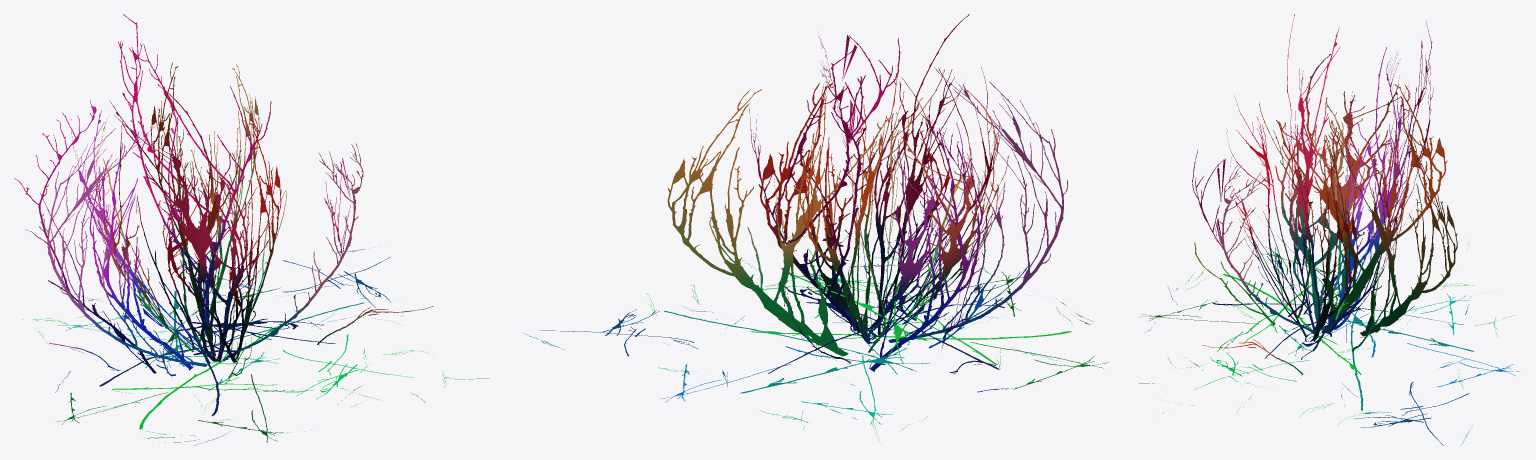
Rendered from Dead_Shrubs_vdknafgha_Raw_vdknafgha_VarF_LOD0.fbx.
3 views of the same model, side by side, from view 1: azimuth 30°, elevation 25°; view 2: azimuth 150°, elevation 25°; view 3: azimuth 270°, elevation 25° (orthographic). The views are drawn at different scales.
Parts seen in each view (by area): view 1: _yfr3_VarF_High; view 2: _yfr3_VarF_High; view 3: _yfr3_VarF_High.
Boxes of the visible parts, x1,y1,x2,y2 form: _yfr3_VarF_High: (14,14,489,445); _yfr3_VarF_High: (523,14,1108,444); _yfr3_VarF_High: (1139,14,1521,445).
Bounding box in the file's own units: 71.84 × 52.62 × 58.9.
